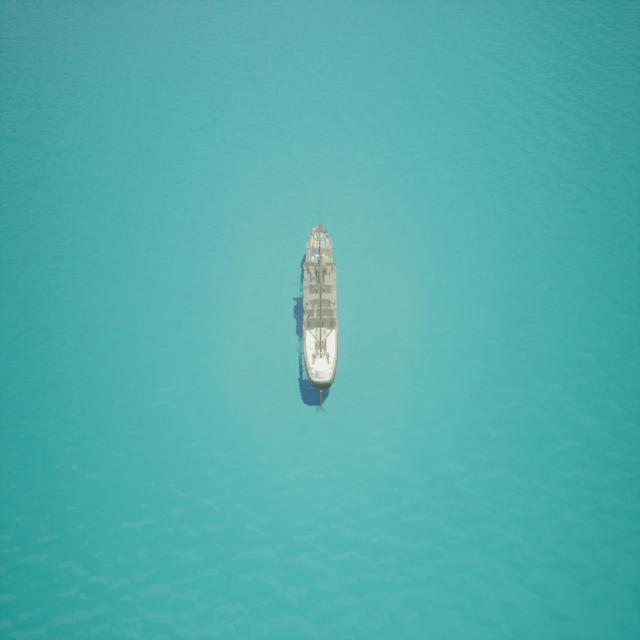fishing ship: (298, 223, 339, 406)
